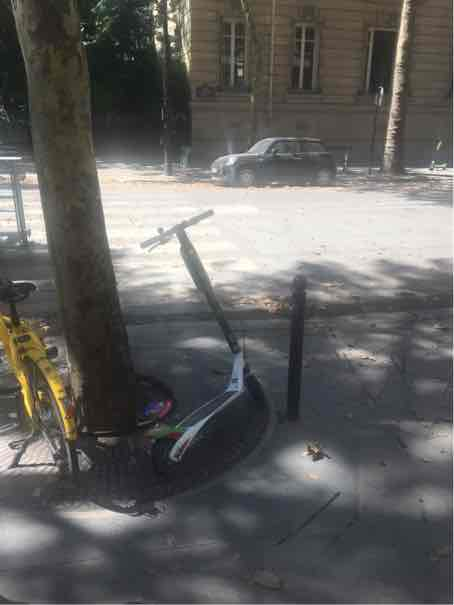scooter: (141, 215, 278, 483)
